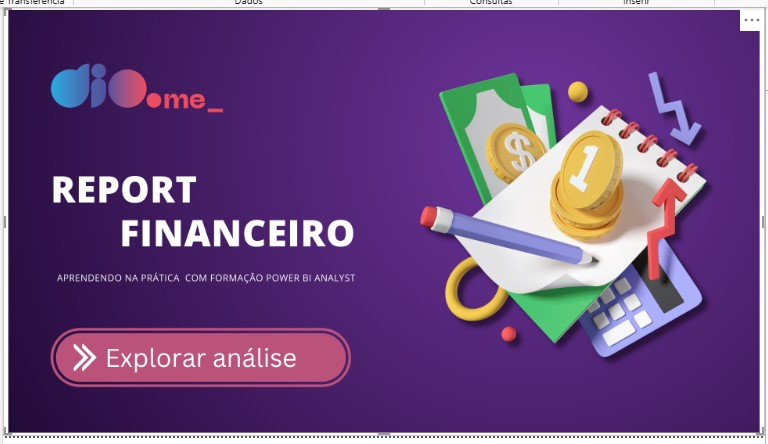

What the dashboard file says about the page in this screenshot:
{"tool":"powerbi","page":{"name":"Home","canvas":[1280,720],"ordinal":0},"visuals":[{"type":"image","box":[0,0,1279.9,720],"z":0},{"type":"actionButton","box":[82.4,534.2,501.3,108.5],"z":1000}]}

Visuals, with their boxes in screenshot pixels (x1, y1, x2, y2):
image: Rect(6, 8, 763, 434)
actionButton: Rect(55, 324, 351, 388)
